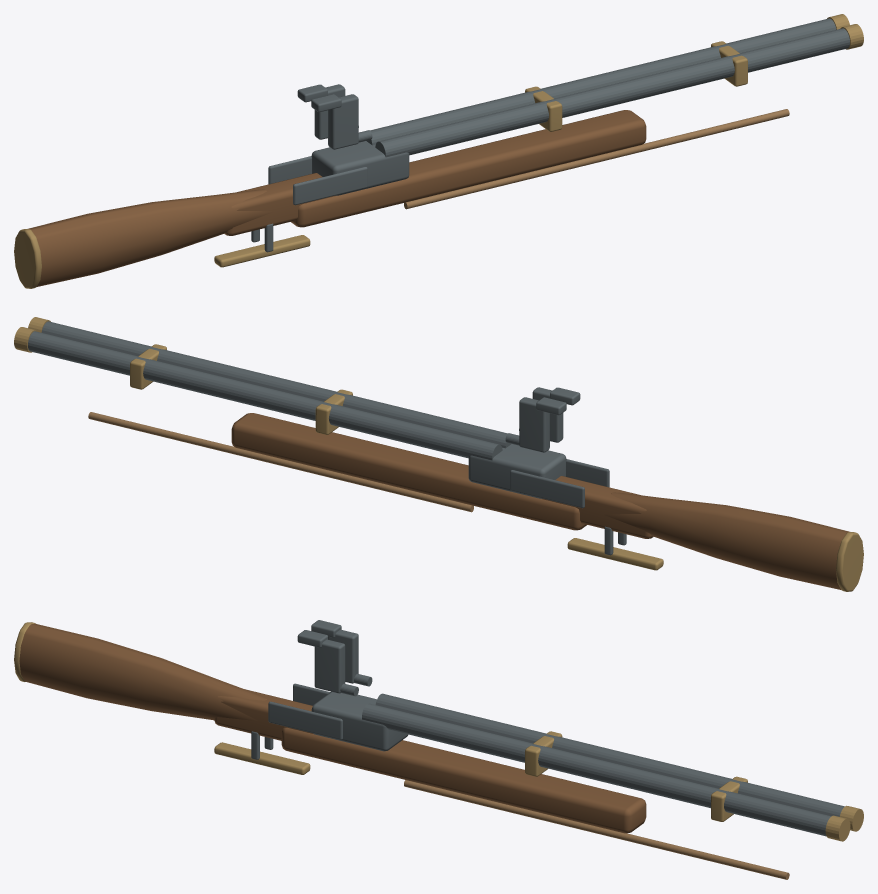
File: double_percussion_gun.glb
3 views of the same model, one above another, from view 1: azimuth 30°, elevation 25°; view 2: azimuth 150°, elevation 25°; view 3: azimuth 330°, elevation 25° (orthographic).
Parts seen in each view (by area): view 1: long fore-end, walnut buttstock, barrel left, barrel right, wooden ramrod, breech block, slender wrist, lock plate, external hammer, stock shoulder heel, double trigger guard, lock plate.001 (+3 smaller); view 2: long fore-end, walnut buttstock, barrel right, barrel left, wooden ramrod, breech block, slender wrist, lock plate.001, external hammer.001, stock shoulder heel, double trigger guard, lock plate (+3 smaller); view 3: long fore-end, walnut buttstock, barrel left, barrel right, wooden ramrod, breech block, slender wrist, lock plate, external hammer, double trigger guard, external hammer.001, barrel band (+3 smaller).
Boxes of the visible parts, left/top/right/bottom form: long fore-end: left=291, top=110, right=646, bottom=227; walnut buttstock: left=28, top=189, right=273, bottom=286; barrel left: left=375, top=28, right=849, bottom=157; barrel right: left=366, top=18, right=836, bottom=145; wooden ramrod: left=404, top=109, right=789, bottom=209; breech block: left=311, top=141, right=409, bottom=195; slender wrist: left=224, top=173, right=335, bottom=235; lock plate: left=293, top=167, right=367, bottom=205; external hammer: left=328, top=94, right=358, bottom=149; stock shoulder heel: left=14, top=229, right=41, bottom=288; double trigger guard: left=214, top=235, right=310, bottom=267; lock plate.001: left=268, top=156, right=311, bottom=184; long fore-end: left=231, top=413, right=586, bottom=530; walnut buttstock: left=604, top=492, right=849, bottom=589; barrel right: left=28, top=331, right=502, bottom=460; barrel left: left=41, top=321, right=511, bottom=448; wooden ramrod: left=88, top=412, right=473, bottom=512; breech block: left=468, top=444, right=566, bottom=498; slender wrist: left=542, top=476, right=653, bottom=538; lock plate.001: left=510, top=470, right=584, bottom=508; external hammer.001: left=519, top=397, right=549, bottom=452; stock shoulder heel: left=836, top=532, right=863, bottom=591; double trigger guard: left=567, top=538, right=663, bottom=570; lock plate: left=566, top=459, right=609, bottom=487; long fore-end: left=281, top=727, right=646, bottom=833; walnut buttstock: left=19, top=623, right=266, bottom=721; barrel left: left=362, top=703, right=830, bottom=836; barrel right: left=375, top=693, right=844, bottom=816; wooden ramrod: left=404, top=780, right=789, bottom=879; breech block: left=311, top=691, right=408, bottom=751; slender wrist: left=214, top=689, right=313, bottom=740; lock plate: left=268, top=701, right=342, bottom=739; external hammer: left=314, top=639, right=345, bottom=693; double trigger guard: left=214, top=742, right=310, bottom=774; external hammer.001: left=328, top=629, right=358, bottom=683; barrel band: left=525, top=731, right=562, bottom=776.
Size of the model in its own units: 1.56 by 0.2645 by 0.087.
